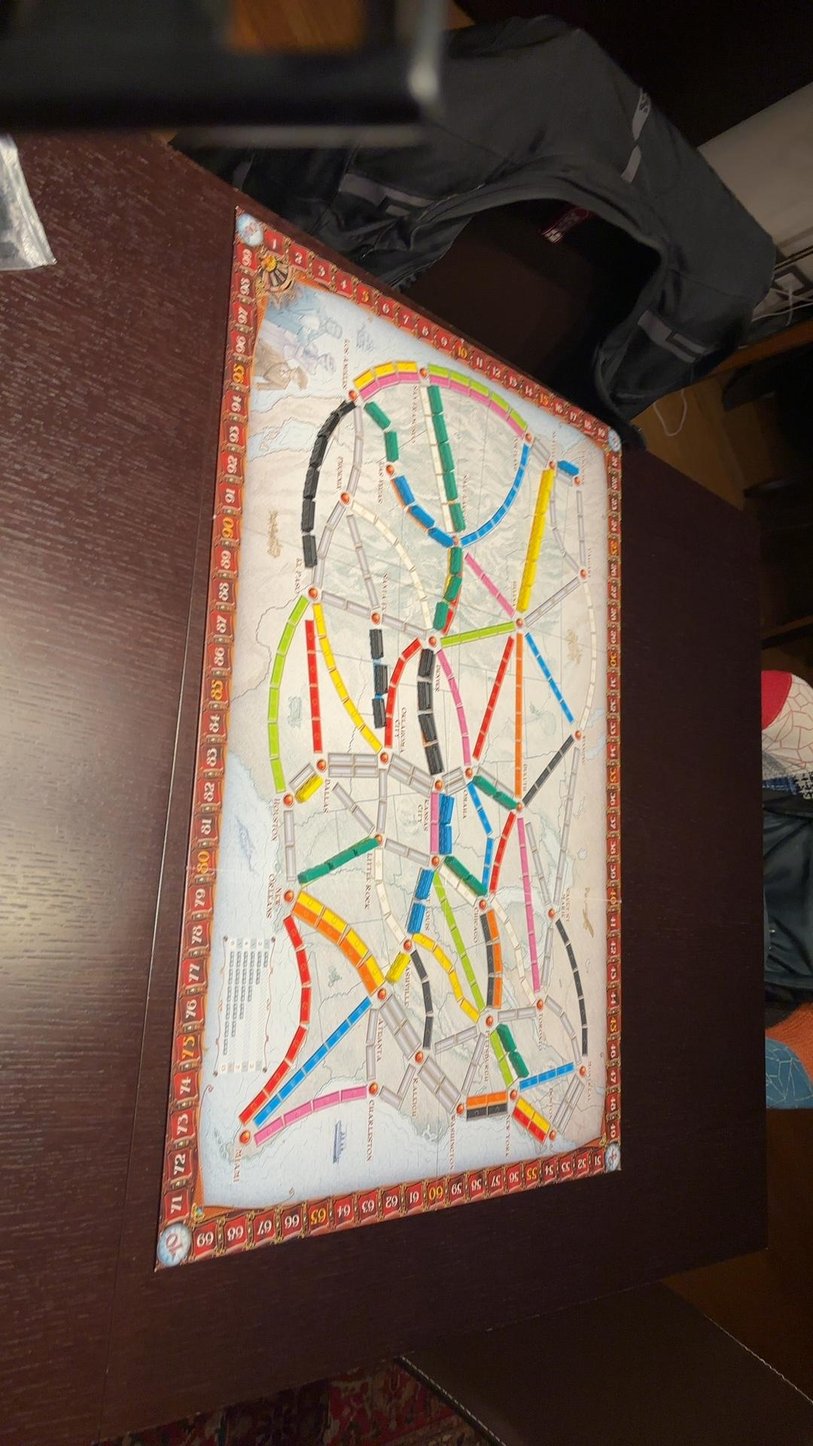black_train: (419, 713, 436, 743), (427, 744, 443, 775), (303, 467, 318, 499), (419, 648, 434, 679), (374, 664, 388, 696), (303, 535, 316, 567), (301, 500, 314, 531), (373, 697, 385, 729), (370, 628, 382, 659), (419, 682, 431, 711)
blue_train: (410, 502, 434, 529), (393, 475, 414, 505), (407, 903, 425, 935), (416, 869, 433, 900), (429, 527, 452, 548), (438, 823, 452, 856), (440, 794, 454, 822), (559, 460, 578, 474)
green_train: (364, 402, 389, 429), (509, 1050, 528, 1077), (434, 600, 448, 630), (450, 502, 464, 532), (445, 575, 461, 601), (433, 413, 447, 442), (444, 470, 457, 501), (428, 385, 442, 413), (439, 439, 452, 469), (386, 431, 398, 461), (449, 547, 461, 575)
yellow_train: (386, 950, 410, 983), (296, 774, 322, 801)
